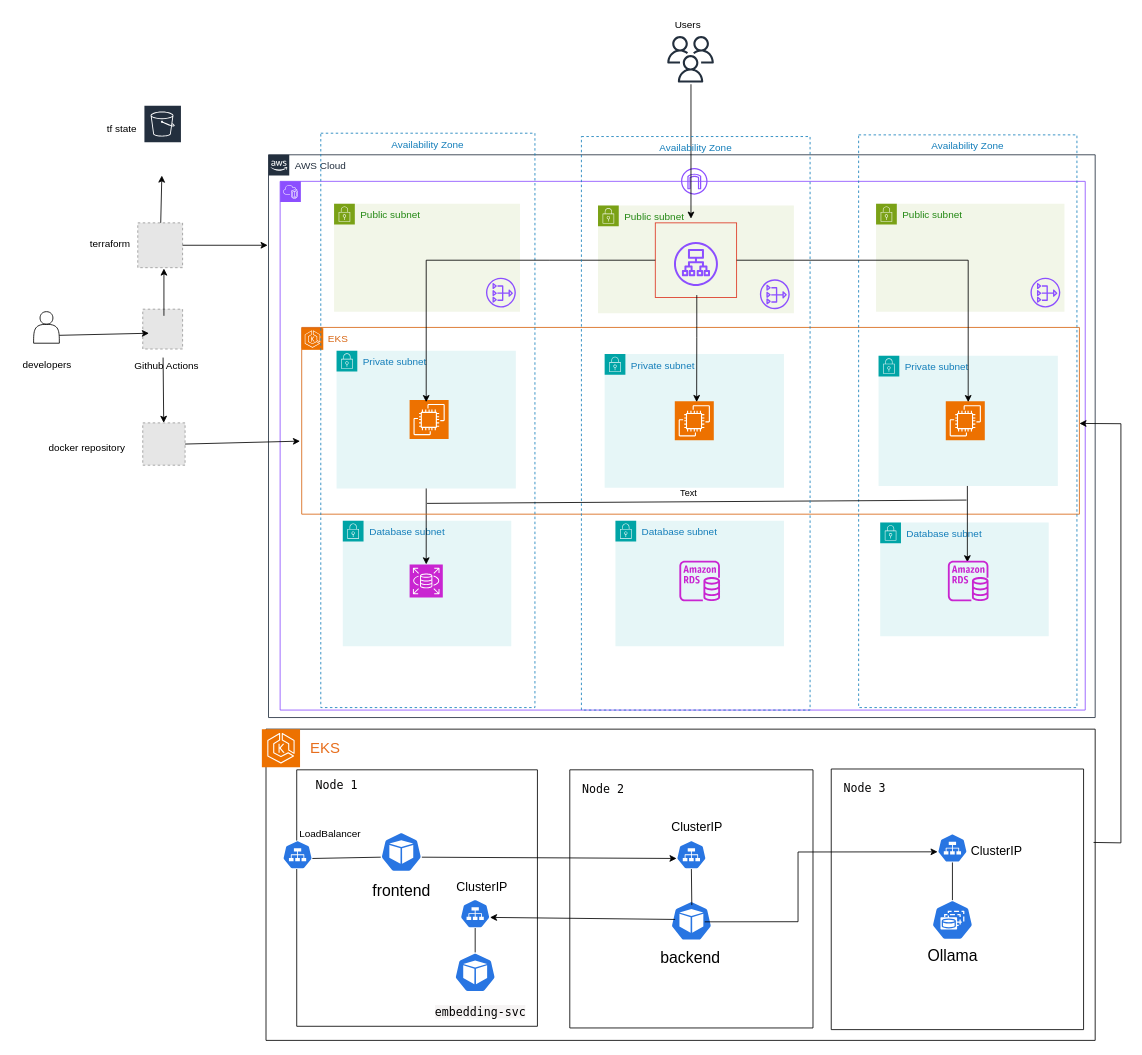
The diagram is 1142 pixels wide and 1055 high, and some of its shapes have lost their labels. Grey dashed boxes stand in for pictures. Each missing label, with the box of its shape:
Amazon S3: (143, 104, 182, 176)
Security group: (654, 222, 737, 298)
VPC: (279, 181, 1085, 710)
